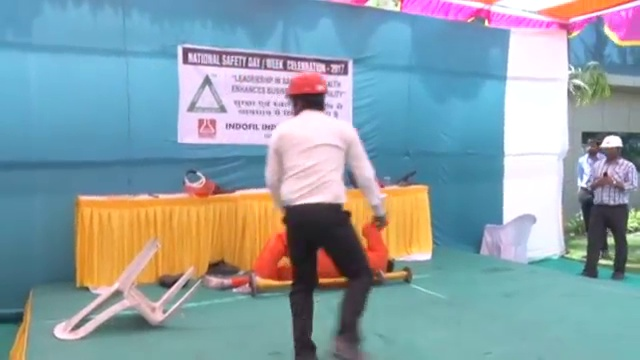helmet: (284, 71, 329, 96), (599, 133, 624, 150)
helmet_off: (582, 137, 599, 158)
helmet_on: (282, 71, 332, 118), (597, 132, 625, 163)
person: (265, 71, 388, 360), (209, 217, 397, 293), (591, 133, 639, 282), (577, 134, 607, 230)
